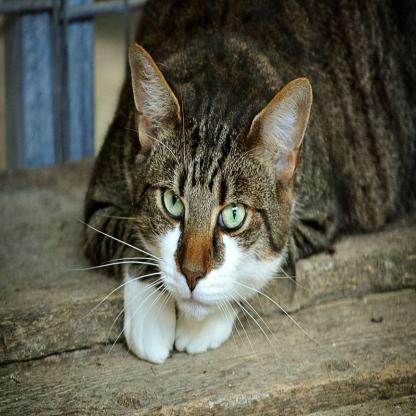cat: (97, 0, 416, 345)
